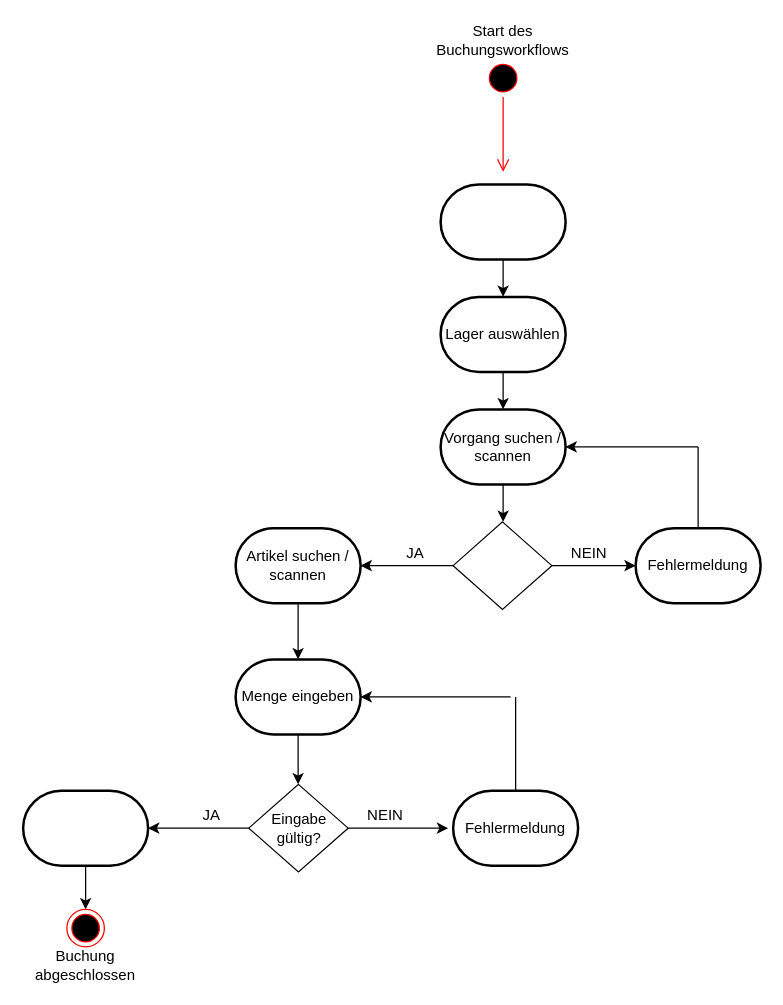
This 783x1005 diagram has some shape labels left out. Here are the shapes that lost their labels. From the top down, the centre of each, then its label:
point (502, 221): Buchungsart wählen
point (502, 565): Vorgang gefunden?
point (85, 827): Buchung speichern
